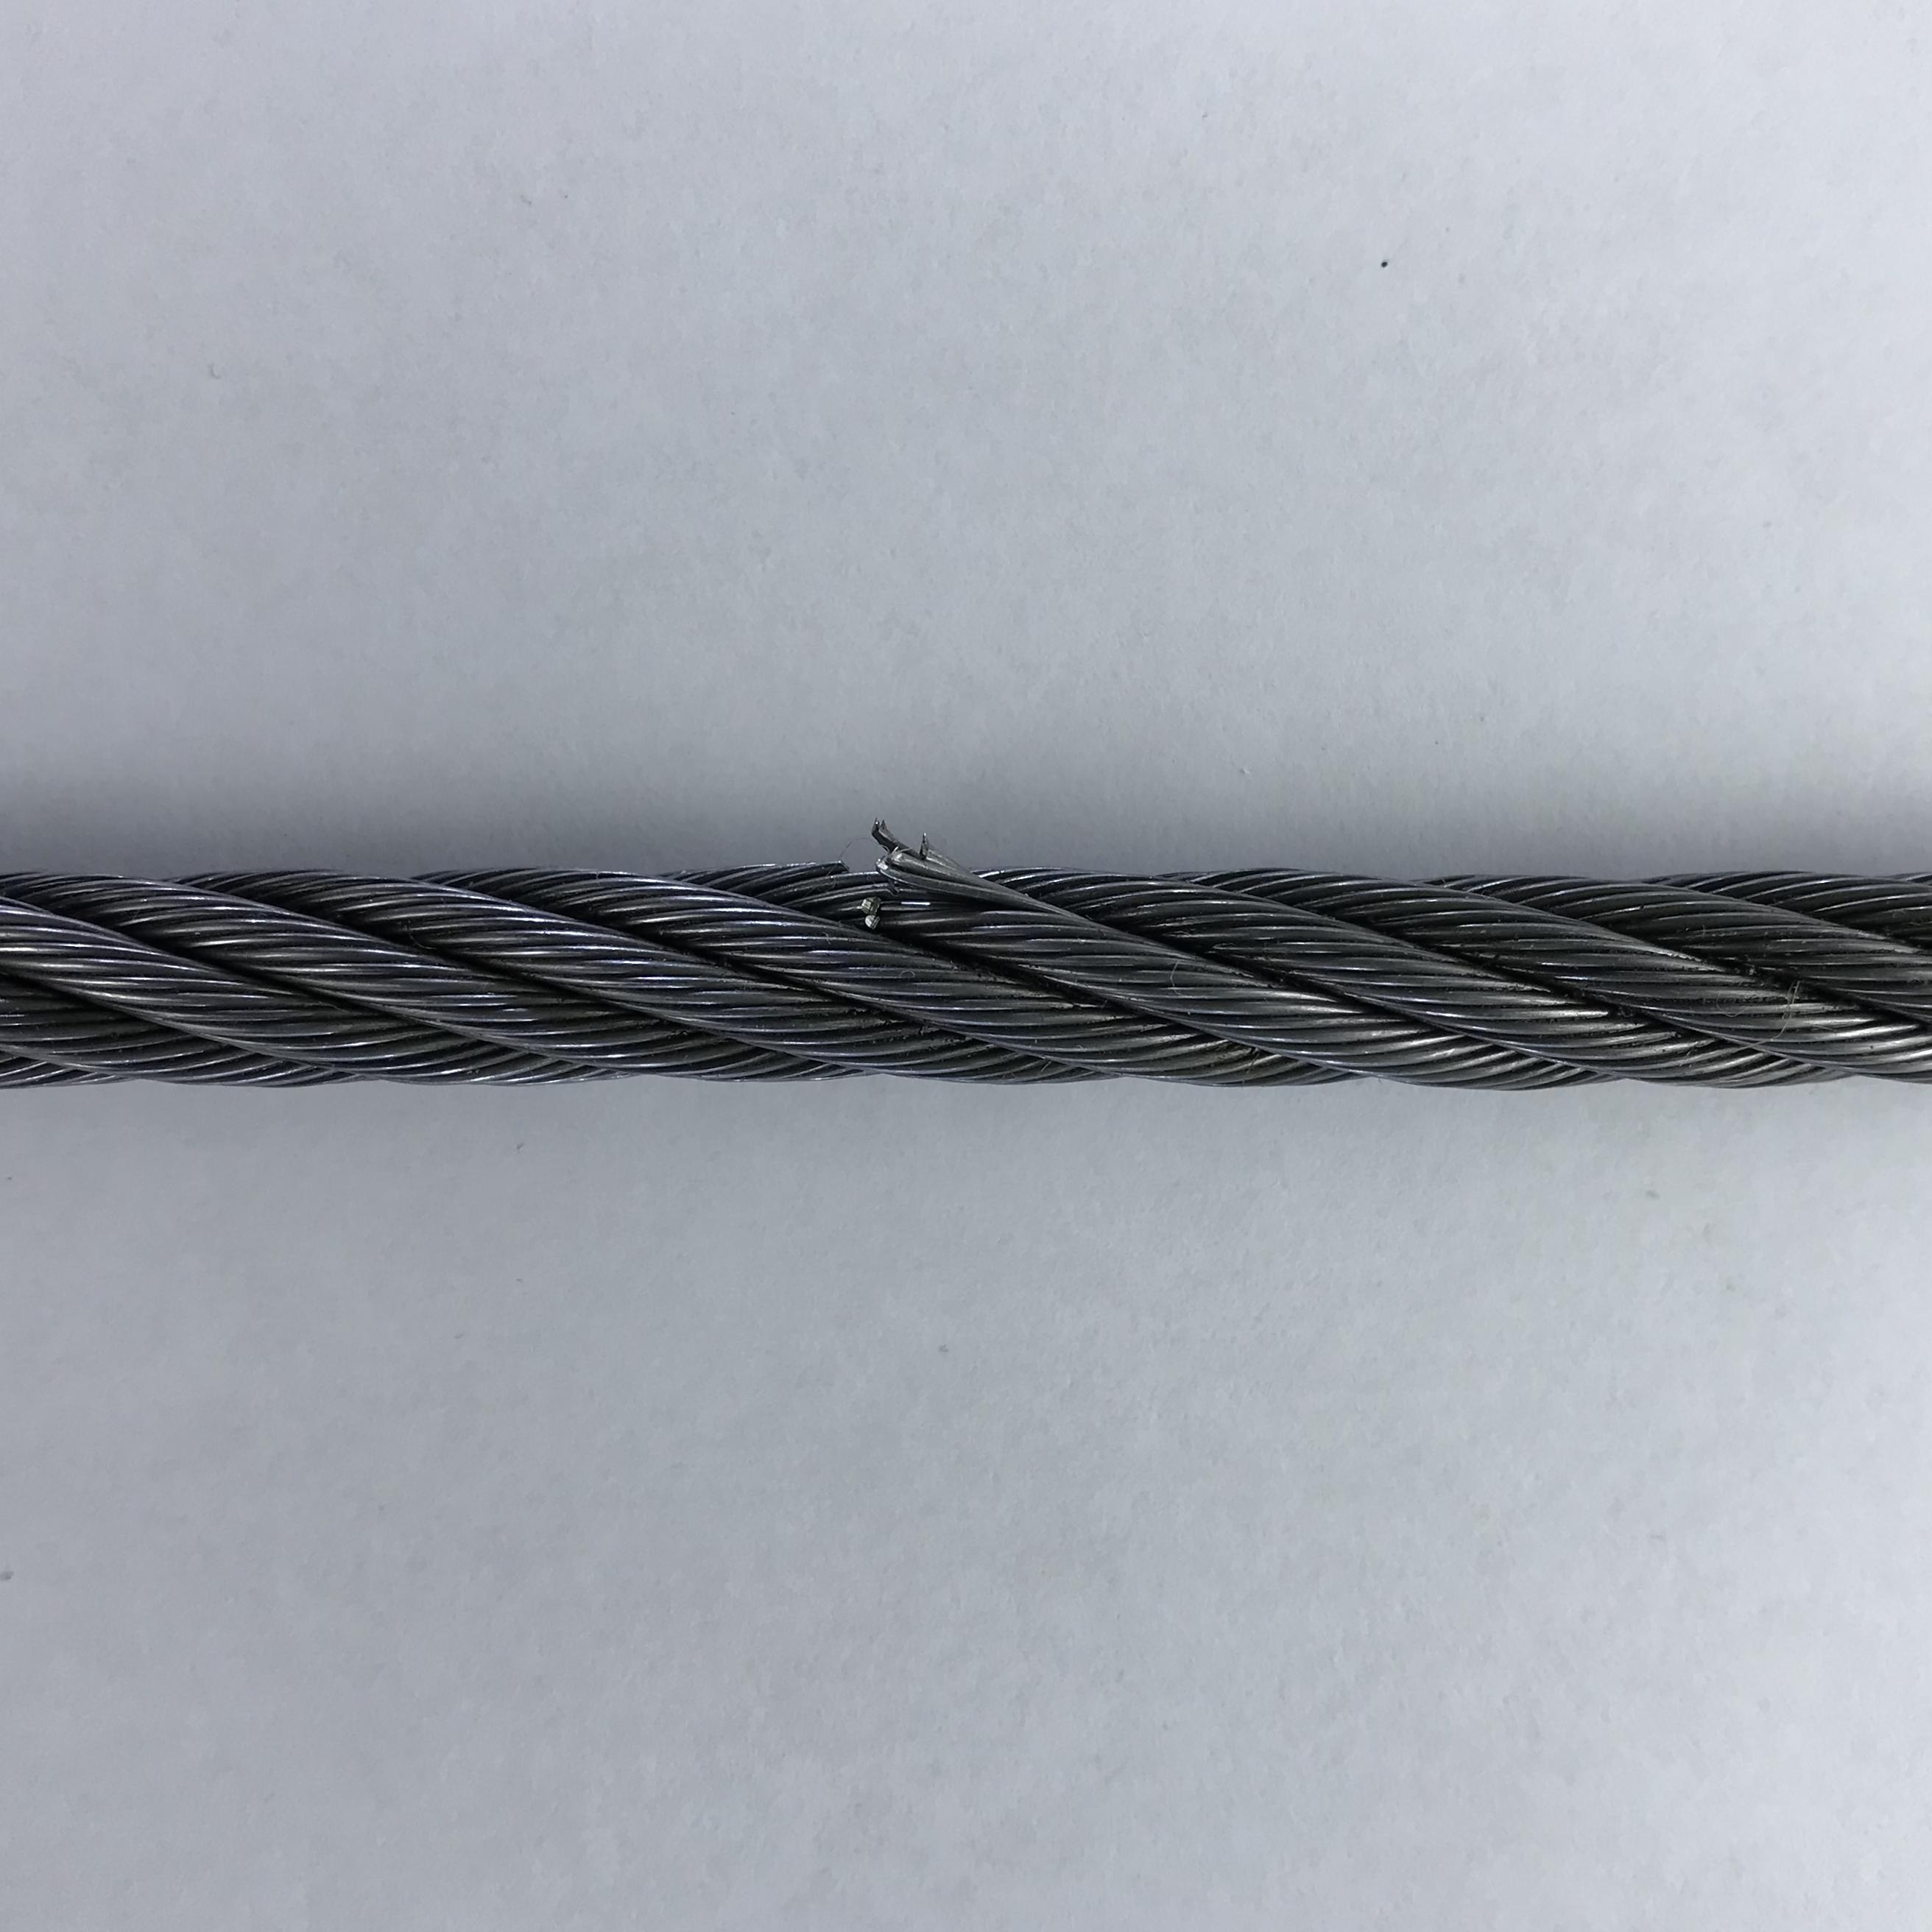break: (805, 810, 984, 938)
